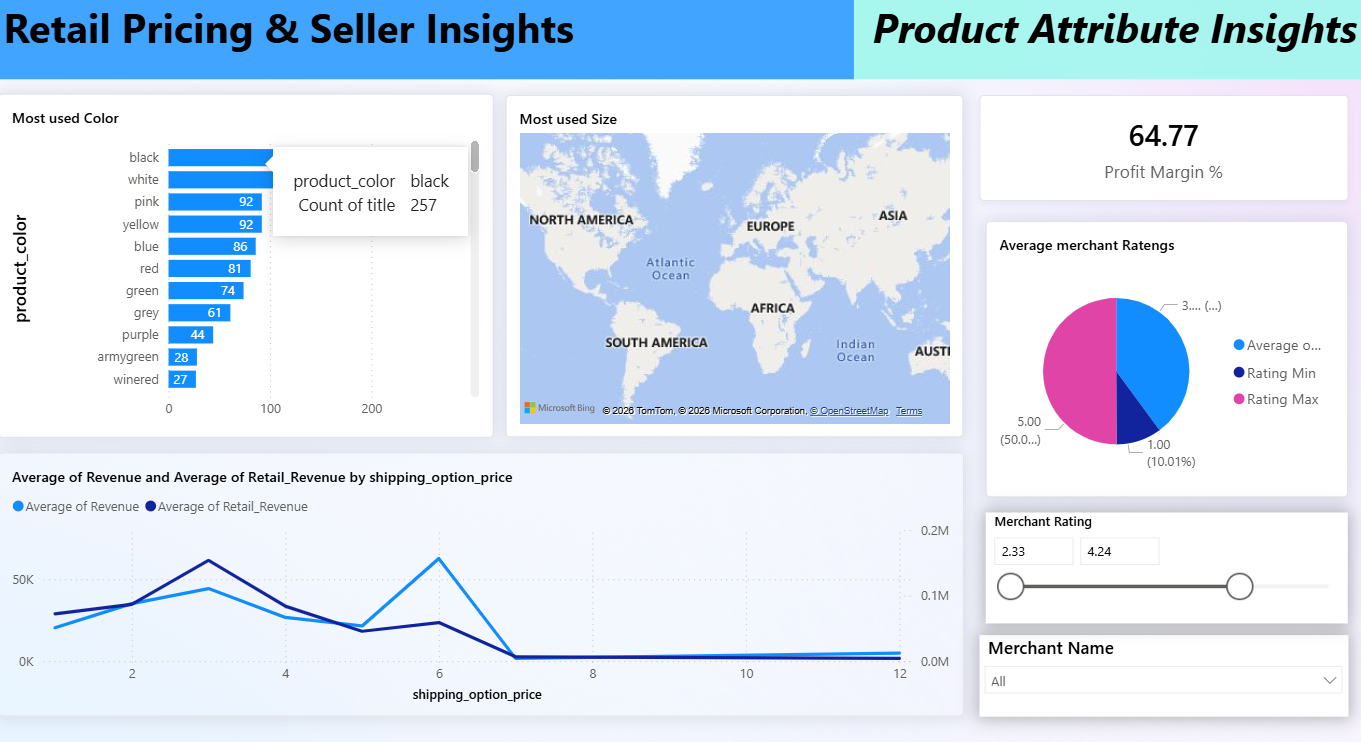

What the dashboard file says about the page in this screenshot:
{"tool":"powerbi","page":{"name":"Product Attribute Insights","canvas":[1280,720],"ordinal":3},"visuals":[{"type":"pieChart","title":"Average merchant Ratengs","fields":{"Y":["Avg(seller_insights.rating)","seller_insights.Rating Min","seller_insights.Rating Max"]},"box":[928.6,210,337.1,257.1],"z":0},{"type":"slicer","fields":{"Values":["products_cleaned.merchant_name"]},"box":[922.9,595.7,342.9,75.7],"z":1000},{"type":"slicer","fields":{"Values":["insights_cleaned.rating"]},"box":[928.6,481.4,337.1,102.9],"z":2000},{"type":"barChart","title":"Most used Color","fields":{"Category":["products_cleaned.product_color"],"Y":["CountNonNull(products_cleaned.title)"]},"box":[10.6,92.4,460.6,319.7],"z":3000},{"type":"filledMap","title":"Most used Size","fields":{"Category":["product_sales.countries_shipped_to"]},"box":[482.9,92.9,425.7,318.6],"z":4000},{"type":"lineChart","fields":{"Y":["Avg(products_cleaned.Revenue)"],"Category":["products_cleaned.shipping_option_price"],"Y2":["Avg(products_cleaned.Retail_Revenue)"]},"box":[10.6,425.8,898.5,245.5],"z":5000},{"type":"textbox","box":[805.7,0,474.3,78.6],"z":6000},{"type":"textbox","box":[10,0,795.7,78.6],"z":7000},{"type":"card","fields":{"Values":["product_sales.Profit Margin %"]},"box":[922.9,92.9,342.9,98.6],"z":8000}]}

Visuals, with their boxes on the page's 1280x720 design canvas (x1, y1, x2, y2). These are canvas units, not pixel positions in the 1361x742 screenshot, which may show the page scaled, cropped or inside an application window:
"Average merchant Ratengs" pieChart: 929:210:1266:467
slicer - products_cleaned.merchant_name: 923:596:1266:671
slicer - insights_cleaned.rating: 929:481:1266:584
"Most used Color" barChart: 11:92:471:412
"Most used Size" filledMap: 483:93:909:412
lineChart - Avg(products_cleaned.Revenue) x products_cleaned.shipping_option_price: 11:426:909:671
textbox: 806:0:1280:79
textbox: 10:0:806:79
card - product_sales.Profit Margin %: 923:93:1266:192
